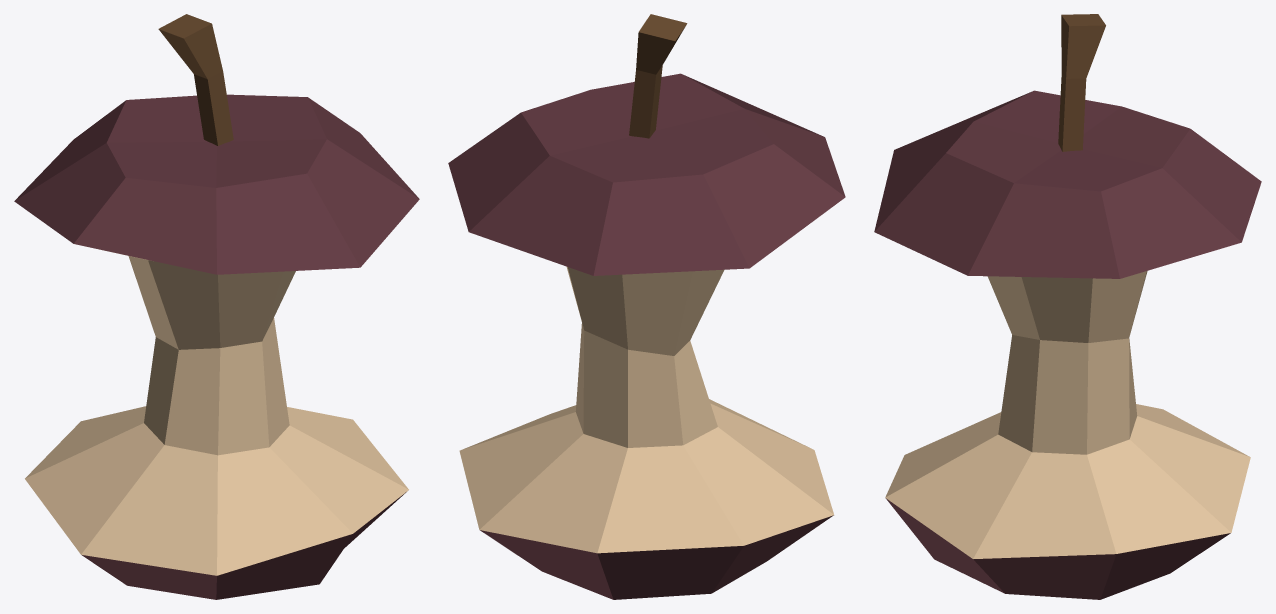
File: food-apple-core.glb
3 views of the same model, side by side, from view 1: azimuth 30°, elevation 25°; view 2: azimuth 150°, elevation 25°; view 3: azimuth 270°, elevation 25° (orthographic). The views are drawn at different scales.
Visible parts, largest first — view 1: apple-core; view 2: apple-core; view 3: apple-core.
Boxes of the visible parts, x1,y1,x2,y2 form: apple-core: (14,14,419,599); apple-core: (448,14,845,599); apple-core: (874,14,1261,599).
Bounding box in the file's own units: 0.0925 × 0.1415 × 0.0925.
